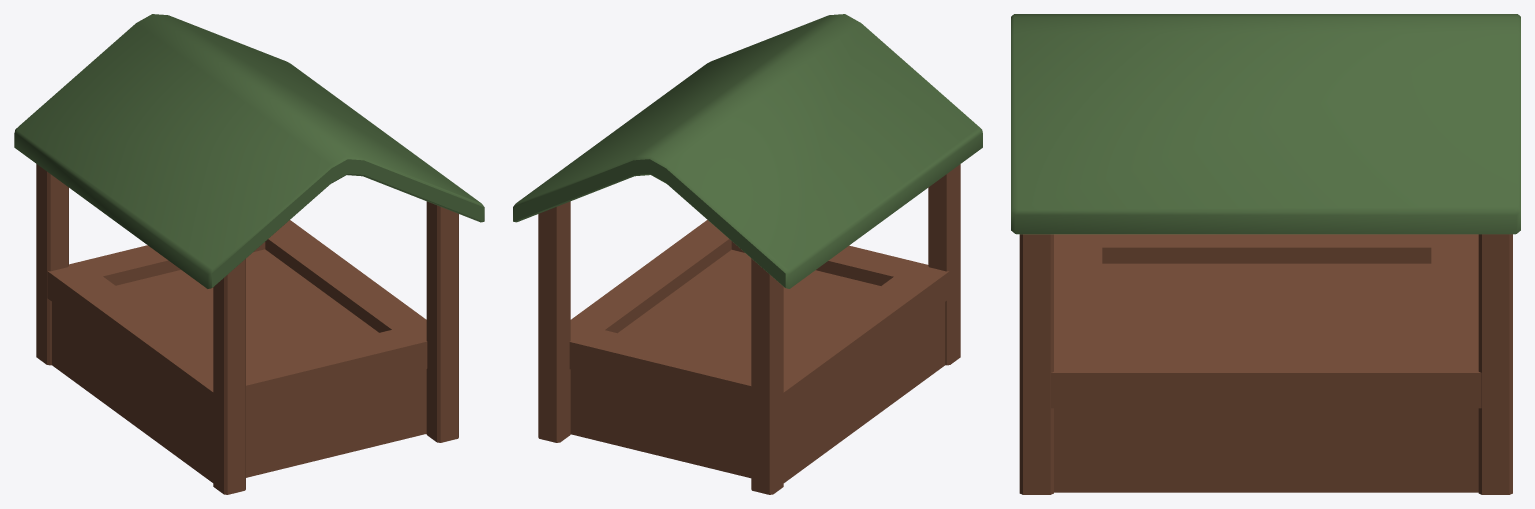
The model's file is Market2.FBX.
3 views of the same model, side by side, from view 1: azimuth 30°, elevation 25°; view 2: azimuth 150°, elevation 25°; view 3: azimuth 270°, elevation 25° (orthographic). The views are drawn at different scales.
Visible parts, largest first — view 1: Market2; view 2: Market2; view 3: Market2.
Boxes of the visible parts, bbox=[...] form: Market2: bbox=[14, 14, 484, 494]; Market2: bbox=[513, 14, 982, 494]; Market2: bbox=[1011, 14, 1520, 494].
Bounding box in the file's own units: 154 × 165 × 189.
